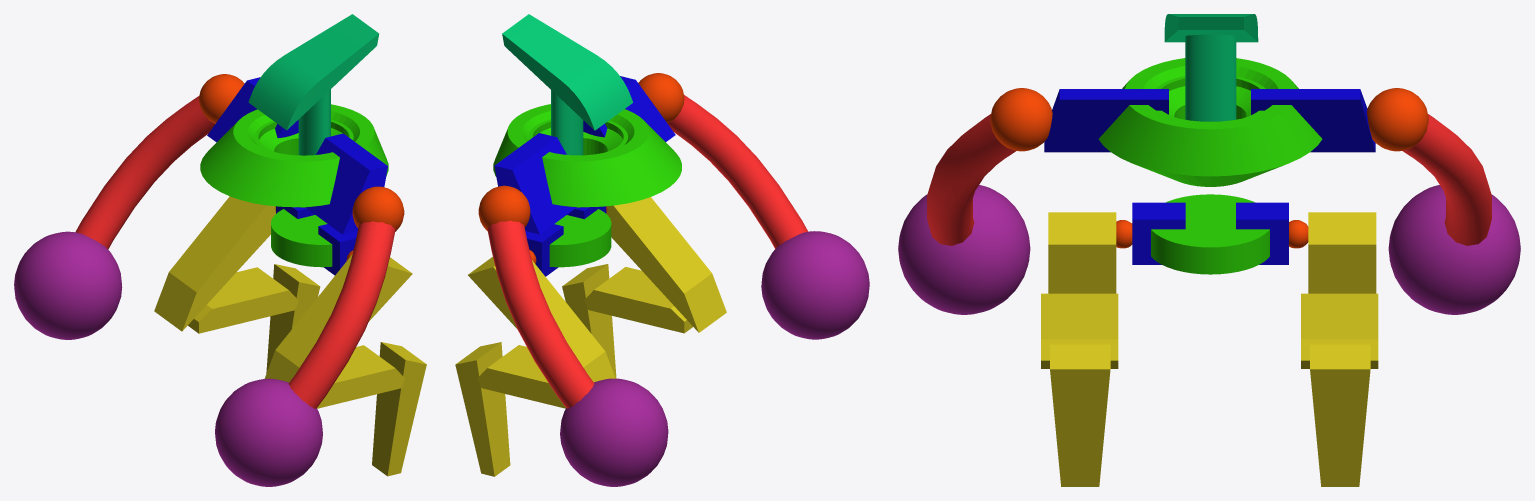
Rendered from SM_Player_02.FBX.
3 views of the same model, side by side, from view 1: azimuth 30°, elevation 25°; view 2: azimuth 150°, elevation 25°; view 3: azimuth 270°, elevation 25° (orthographic). The views are drawn at different scales.
Visible parts, largest first — view 1: Cylinder005, Sphere016, Sphere014, Box032, Line001, Box026, Line002, Box025, Box031, Box029, Box033, Box030 (+6 smaller); view 2: Cylinder005, Sphere014, Sphere016, Box029, Line002, Box026, Line001, Box025, Box034, Box030, Box032, Box033 (+6 smaller); view 3: Cylinder005, Sphere014, Sphere016, Box025, Box031, Box034, Cylinder006, Line001, Line002, Box029, Box032, Cylinder007 (+7 smaller).
Part boxes in pixels (box(x1,y1,x2,y2)): Cylinder005: box(200, 104, 388, 207); Sphere016: box(14, 231, 122, 339); Sphere014: box(215, 378, 322, 486); Box032: box(154, 196, 275, 331); Line001: box(288, 221, 395, 408); Box026: box(248, 14, 379, 130); Line002: box(75, 96, 214, 249); Box025: box(207, 77, 387, 234); Box031: box(372, 342, 426, 476); Box029: box(264, 254, 412, 382); Box033: box(188, 267, 298, 333); Box030: box(317, 345, 405, 408); Cylinder005: box(493, 104, 681, 207); Sphere014: box(761, 231, 869, 339); Sphere016: box(560, 378, 668, 486); Box029: box(606, 197, 726, 332); Line002: box(487, 220, 594, 408); Box026: box(502, 14, 632, 130); Line001: box(667, 95, 807, 248); Box025: box(494, 76, 675, 234); Box034: box(455, 342, 510, 476); Box030: box(584, 267, 692, 333); Box032: box(468, 256, 615, 382); Box033: box(477, 345, 565, 408); Cylinder005: box(1098, 58, 1322, 186); Sphere014: box(898, 185, 1030, 314); Sphere016: box(1388, 185, 1520, 314); Box025: box(1044, 89, 1375, 152); Box031: box(1050, 344, 1110, 486); Box034: box(1310, 344, 1370, 486); Cylinder006: box(1151, 194, 1269, 274); Line001: box(927, 114, 1015, 245); Line002: box(1403, 114, 1491, 245); Box029: box(1048, 212, 1116, 293); Box032: box(1308, 212, 1376, 293); Cylinder007: box(1185, 34, 1236, 121).
Size of the model in its own units: 85.47 by 127 by 148.
